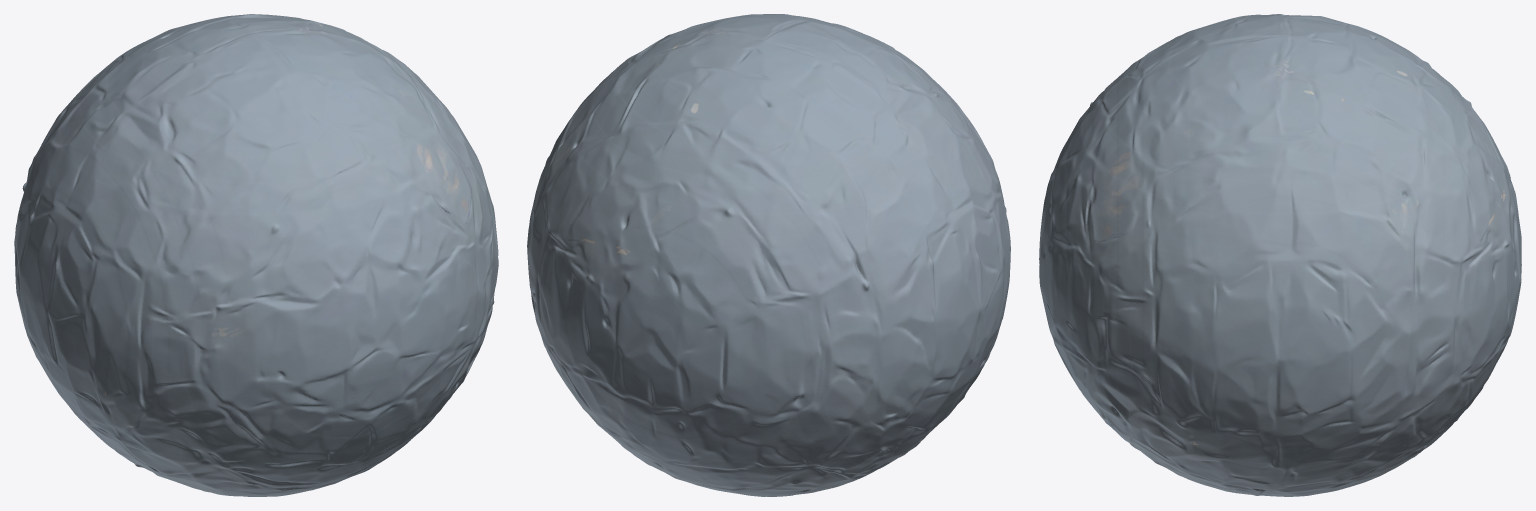
Rendered from detailed_realistic_model_crystalball_24.glb.
3 renders of one model, left to right at view 1: azimuth 30°, elevation 25°; view 2: azimuth 150°, elevation 25°; view 3: azimuth 270°, elevation 25°, orthographic.
Visible parts, largest first — view 1: tripo_node_1bc7b88f-7e2c-4b82-81e2-6d381ca9b96a; view 2: tripo_node_1bc7b88f-7e2c-4b82-81e2-6d381ca9b96a; view 3: tripo_node_1bc7b88f-7e2c-4b82-81e2-6d381ca9b96a.
Boxes of the visible parts, left/top/right/bottom form: tripo_node_1bc7b88f-7e2c-4b82-81e2-6d381ca9b96a: left=14, top=14, right=498, bottom=496; tripo_node_1bc7b88f-7e2c-4b82-81e2-6d381ca9b96a: left=527, top=14, right=1010, bottom=496; tripo_node_1bc7b88f-7e2c-4b82-81e2-6d381ca9b96a: left=1039, top=14, right=1521, bottom=496.
Bounding box in the file's own units: 1 × 0.9978 × 0.9931.
1 material, 1 textured.
